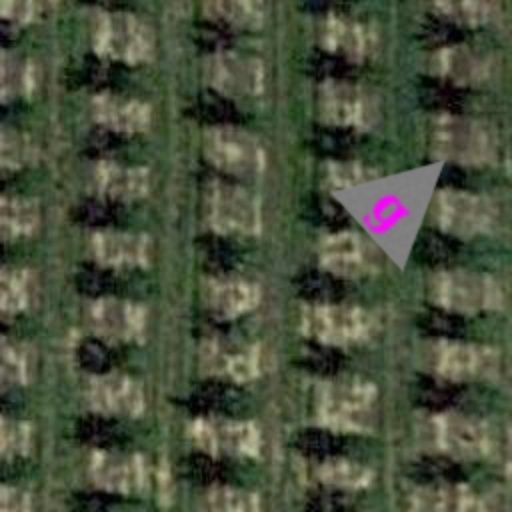triangle: (330, 120, 482, 272)
